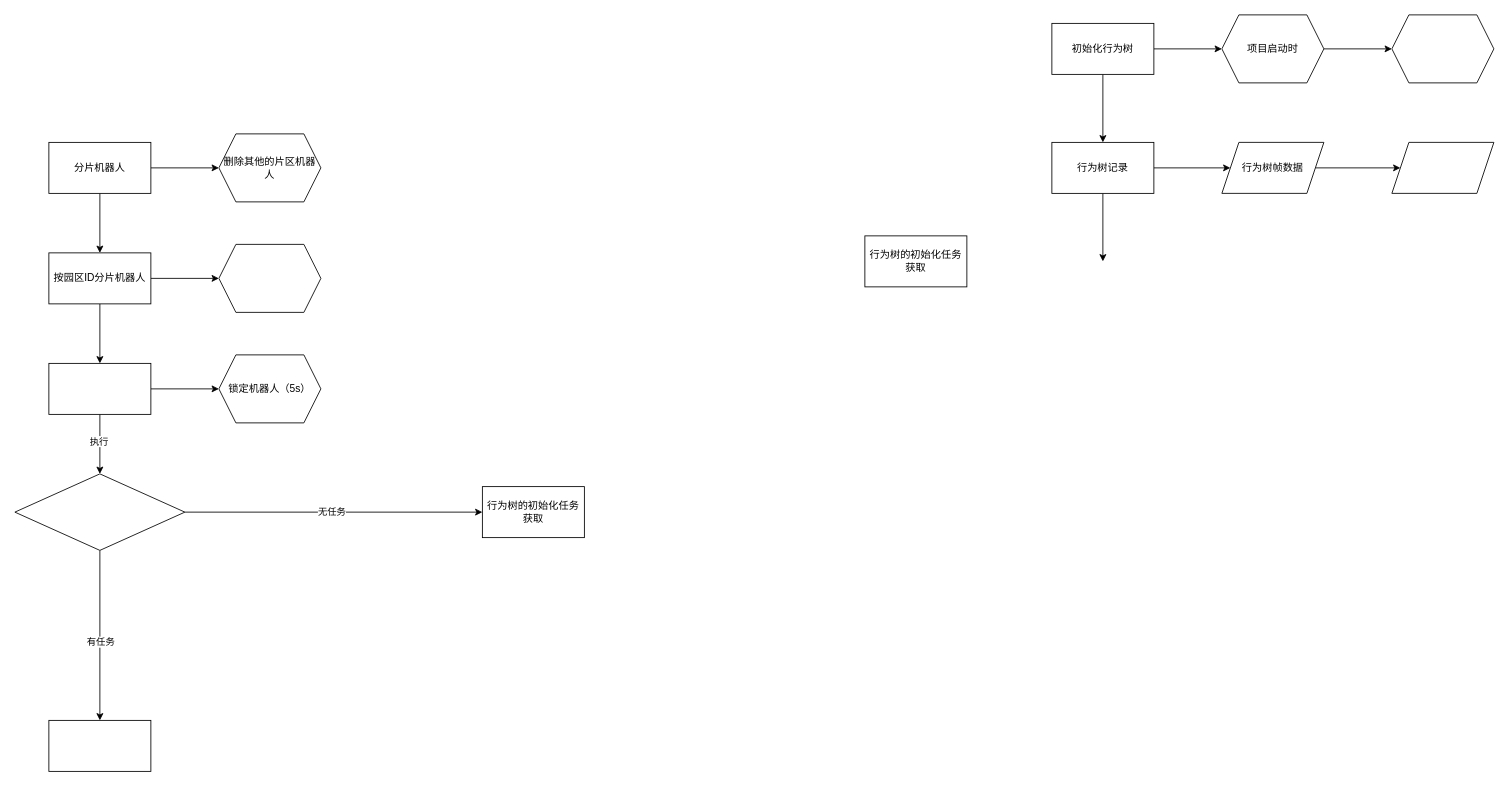
This 1509x786 diagram has some shape labels left out. The shapes that lost their labels are listed below. From the top down, each one's centre as x and y in pixels, then its label:
At point (1442, 48): "获取已经实例 应用上下文".
At point (1442, 167): "行为树节点".
At point (269, 278): "清理不在园区的机器人".
At point (99, 388): "创建单例线程池执行机器人当前行为".
At point (99, 511): "获取本地的机器人正 在执行的任务？".
